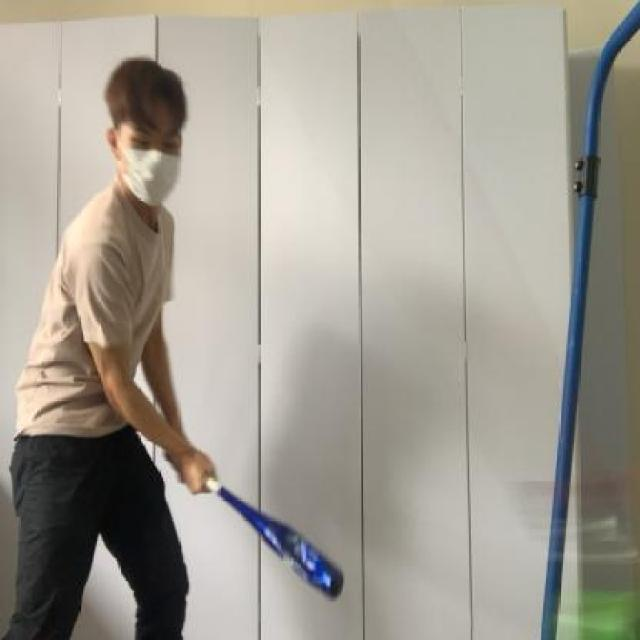baseball: (558, 581, 638, 640)
